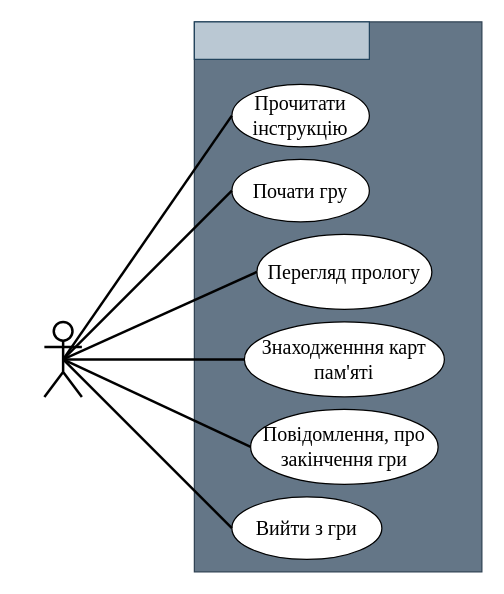
Some shapes in this 504 by 594 pixel diagram are drawn without their labels. Each missing label, with the centre of its shape:
Гра: Будні кіберпанків: [281,40]
Гравець: [62,359]
